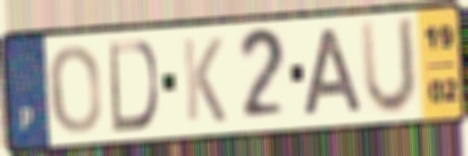2: (234, 25, 295, 129)
A: (301, 25, 367, 119)
D: (106, 38, 161, 135)
K: (180, 35, 229, 125)
O: (46, 42, 104, 137)
U: (357, 14, 419, 119)
